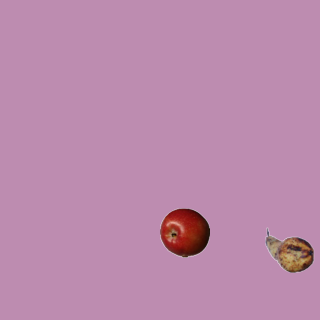Apple Braeburn: (159, 207, 209, 257)
Pear Abate: (264, 225, 314, 275)
